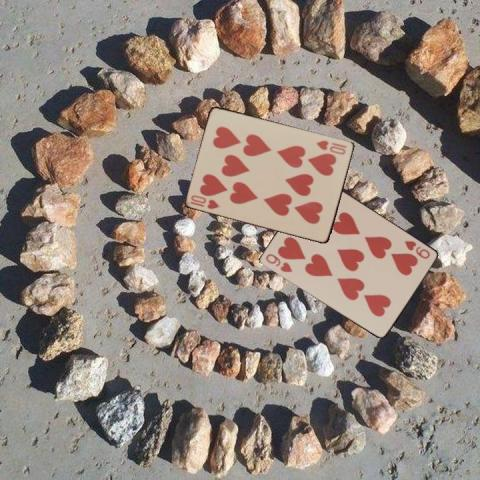10h: (314, 137, 348, 156), (187, 192, 221, 211)
9h: (402, 237, 432, 261), (262, 251, 293, 274)
